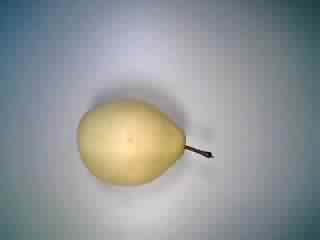pear: (65, 89, 222, 196)
